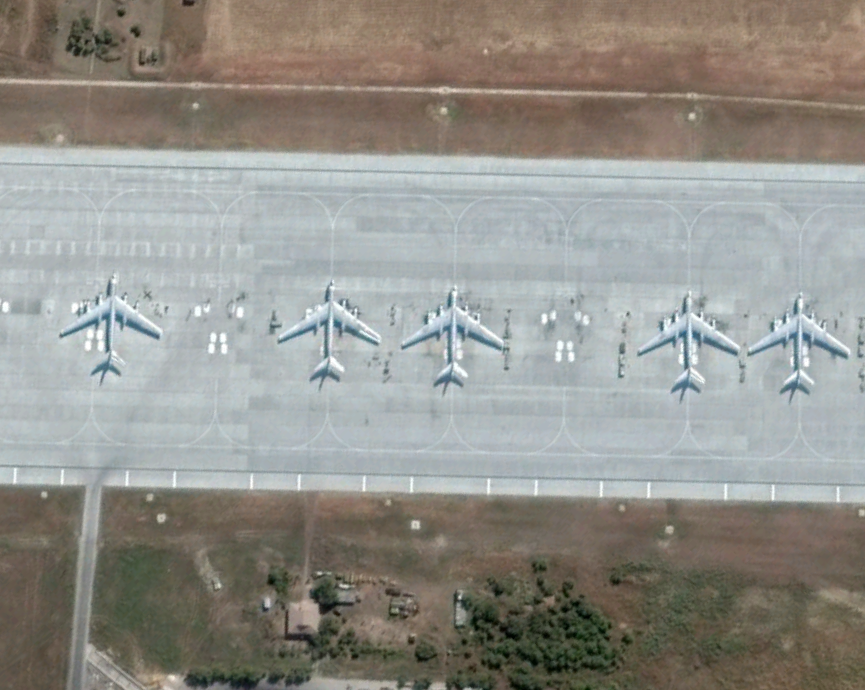A17: (55, 263, 168, 378), (270, 277, 383, 392), (394, 276, 507, 391), (630, 287, 743, 402), (742, 286, 855, 401)
